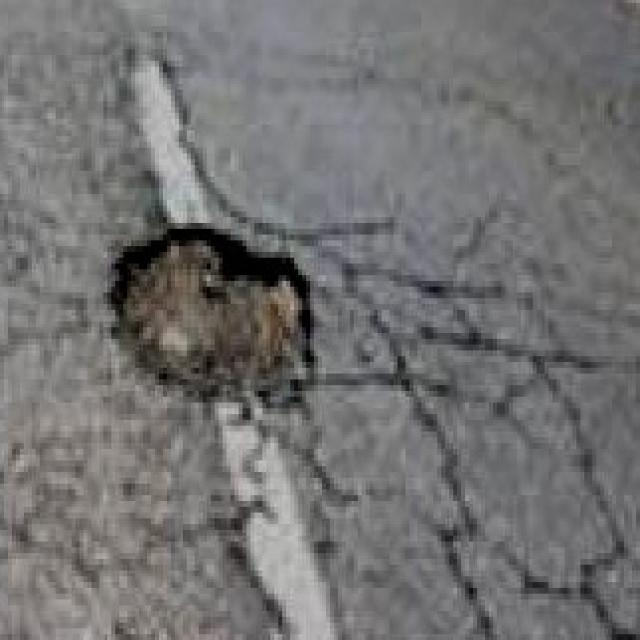road-pothole: (101, 217, 318, 413)
